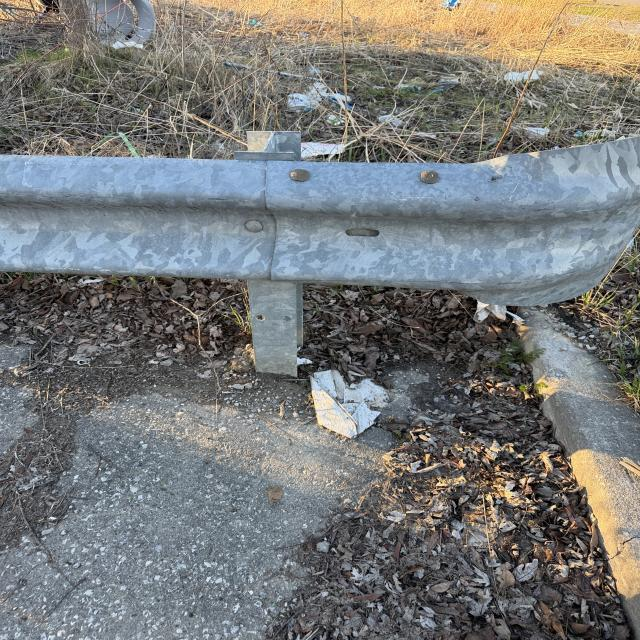Guard rail: (17, 148, 626, 292)
